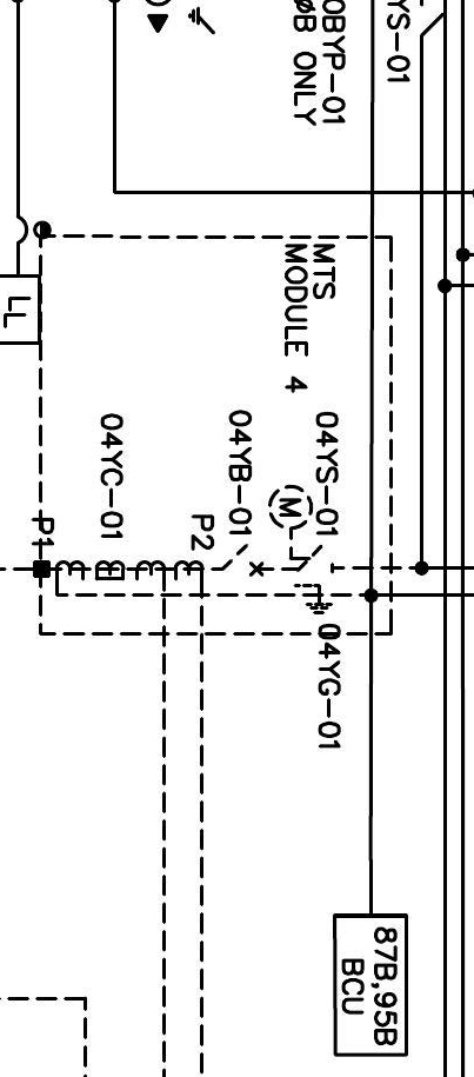115_ds: (419, 1, 443, 37)
